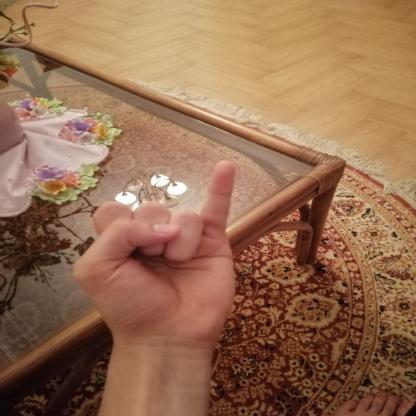MEEM: (48, 150, 262, 362)
